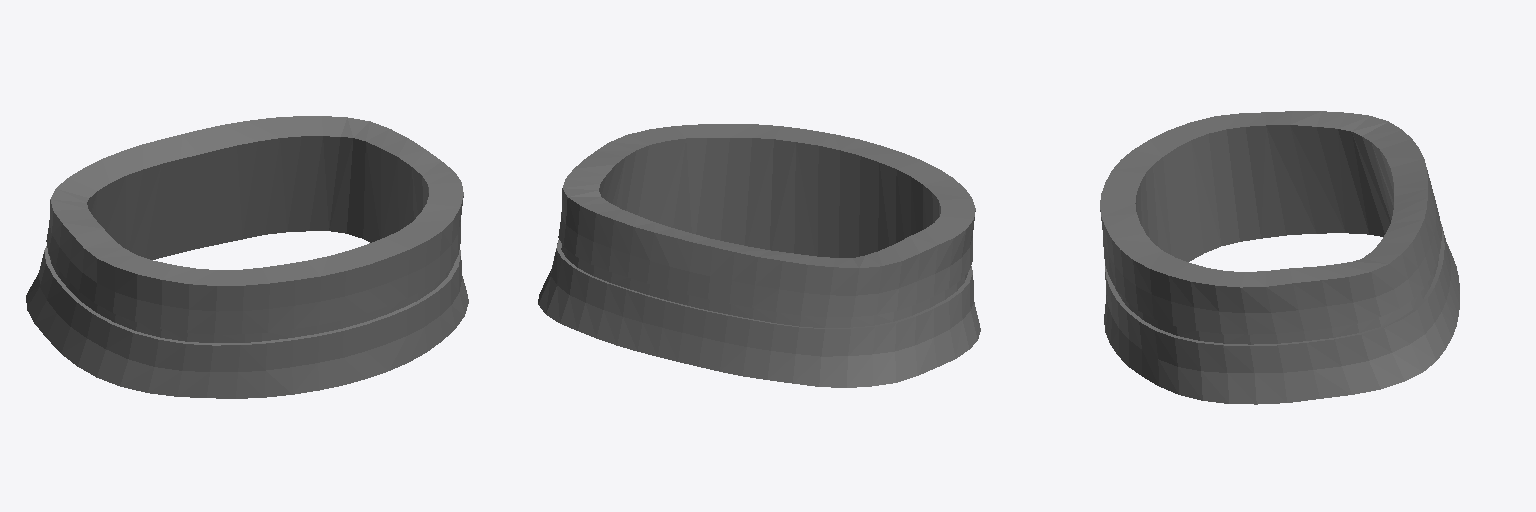
Rendered from LowPoly_Morte_CintoBase.obj.
3 renders of one model, left to right at view 1: azimuth 30°, elevation 25°; view 2: azimuth 150°, elevation 25°; view 3: azimuth 270°, elevation 25°, orthographic.
Visible parts, largest first — view 1: LowPoly_Morte_CintoBase; view 2: LowPoly_Morte_CintoBase; view 3: LowPoly_Morte_CintoBase.
Boxes of the visible parts, x1,y1,x2,y2 form: LowPoly_Morte_CintoBase: [26, 116, 468, 398]; LowPoly_Morte_CintoBase: [538, 124, 980, 387]; LowPoly_Morte_CintoBase: [1100, 111, 1459, 404].
Size of the model in its own units: 26.78 by 9.05 by 21.85.